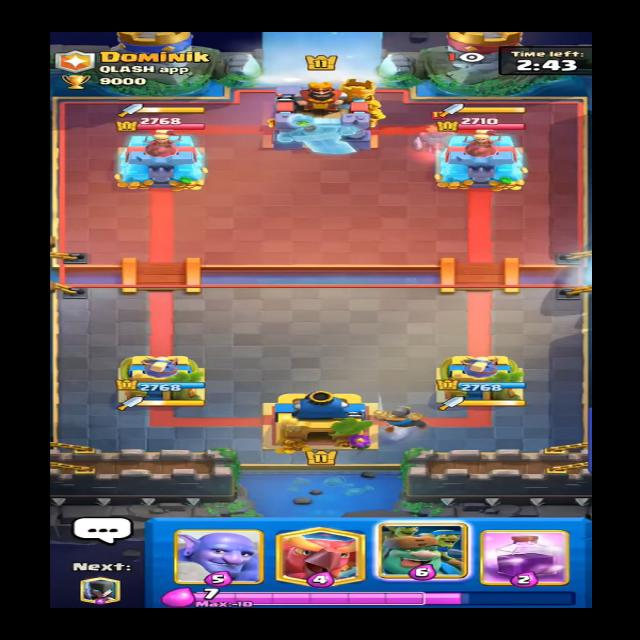Royalghost: (410, 108, 462, 154)
